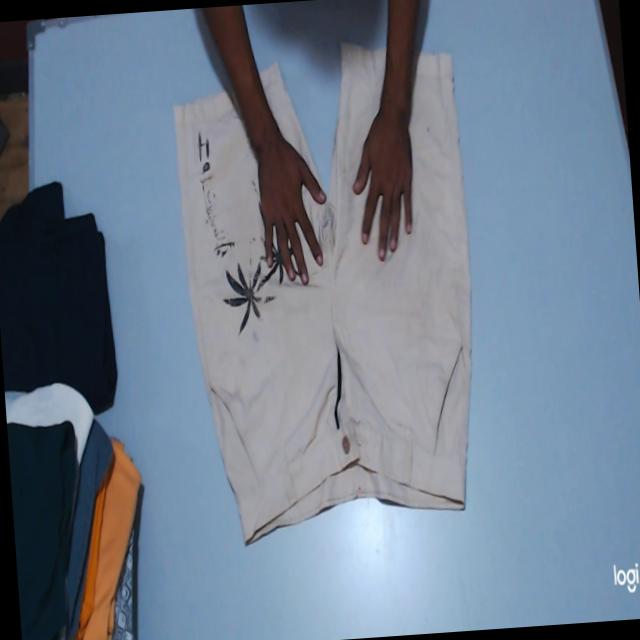new-garment: (174, 13, 471, 542), (174, 46, 470, 542), (259, 64, 317, 174)
